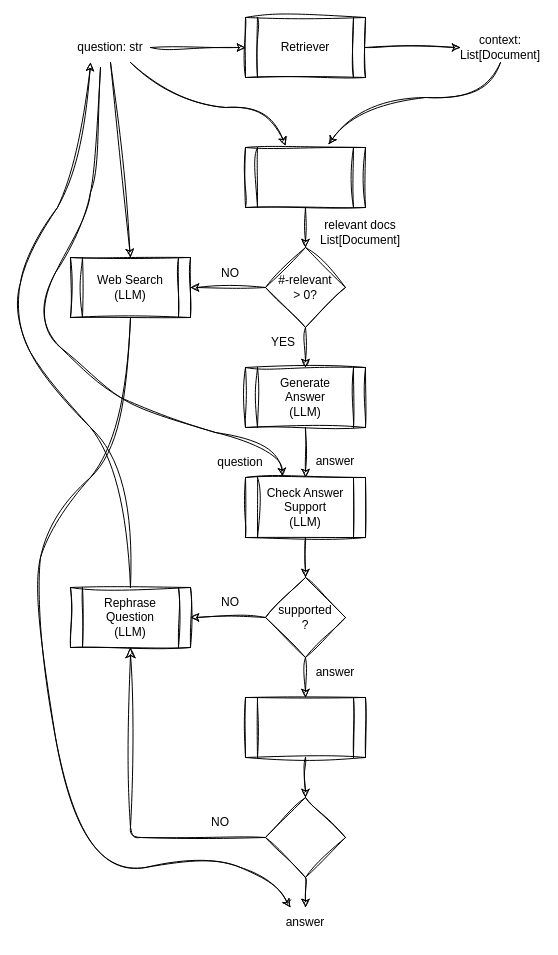
Image size: 558x955. Some labels were removed from this diagram. The shapes that lost their labels are listed below. From the top down, each one's box as (x1, y1, x2, y2) in pixels, then its label:
(244, 146, 366, 208): Check Document Relevance (LLM)
(244, 696, 366, 758): Check Usefulness (LLM)
(264, 796, 346, 878): useful ?
